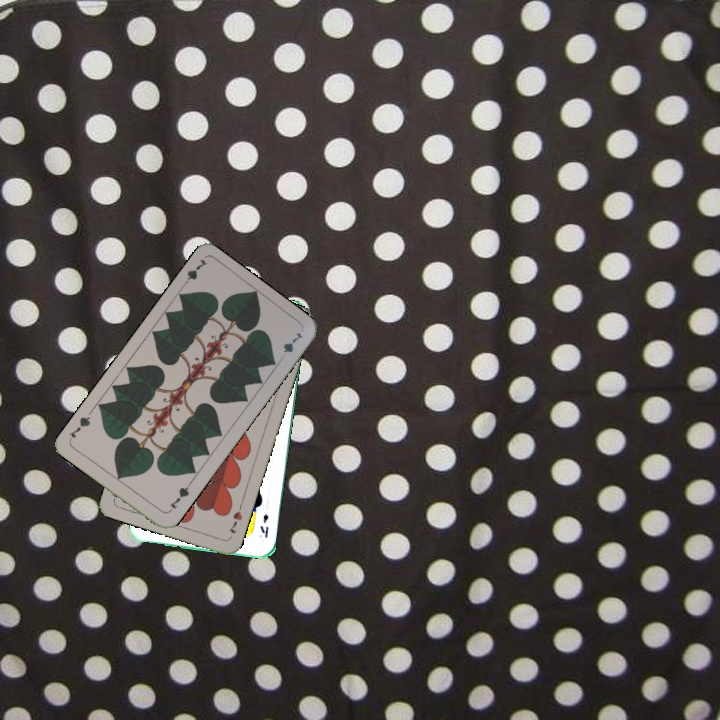EK: (256, 510, 271, 540)
G7: (177, 255, 210, 290), (164, 480, 193, 515)
H7: (224, 507, 245, 536)
